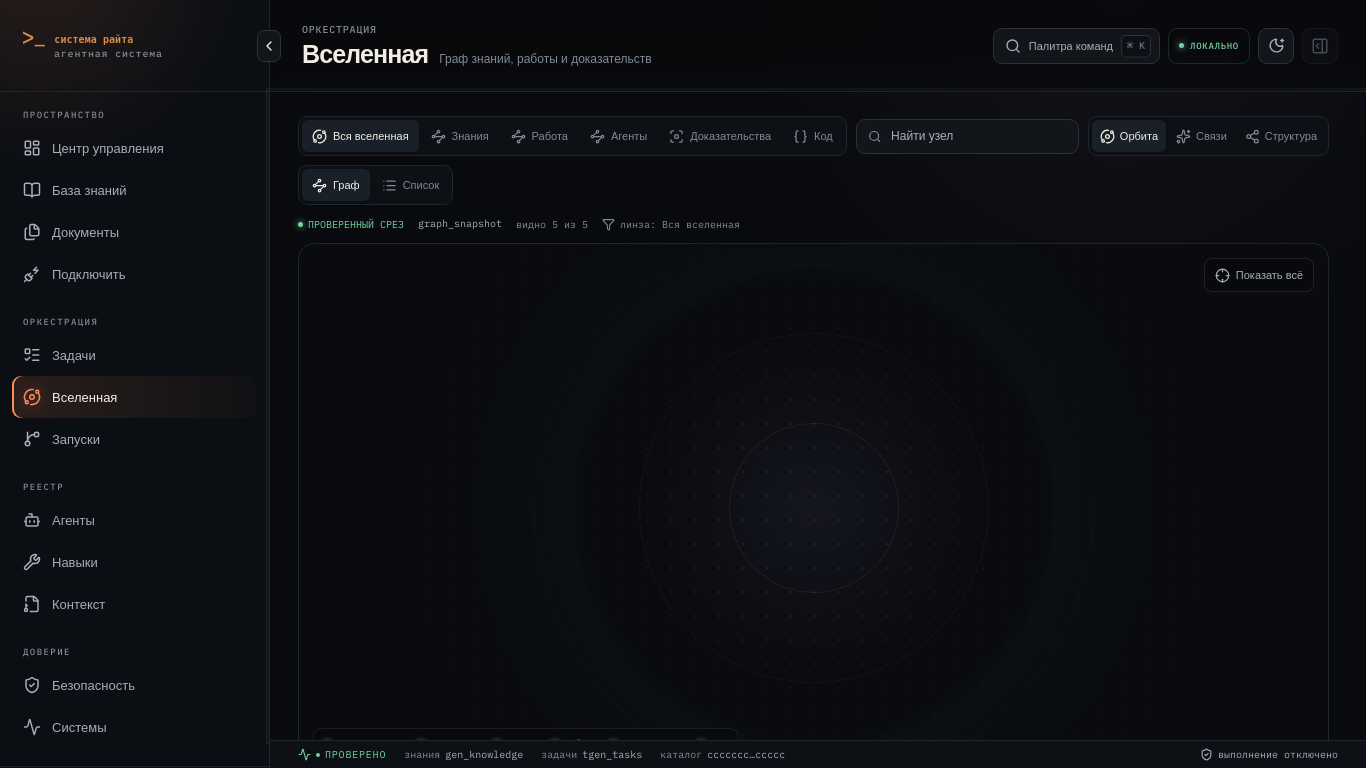
Test: raytsystem control plane › provides a Russian code lens with freshness, filters and table fallback
The width and height of the screenshot is (1366, 768).
What coordinates should you click on to do the following:
click the button "Код"
I would click on:
 (813, 136)
Its box is [783,120,843,152].
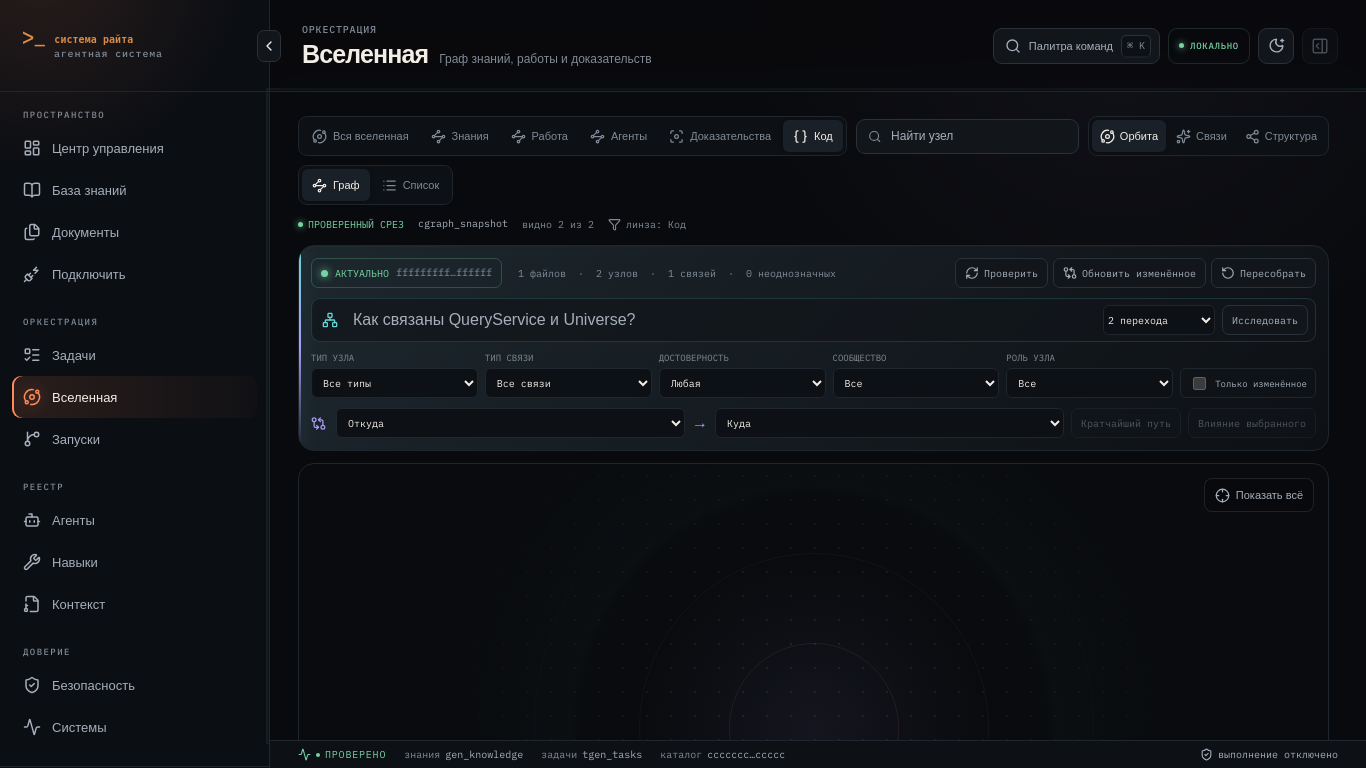
Now the text "Актуально" is shown, box [335,266,389,280]
Now the dropdown labelled "Тип узла" is shown, box [311,368,478,398]
Now the dropdown labelled "Тип связи" is shown, box [485,368,652,398]
What coordinates should you click on to do the following:
click the button "Список"
I would click on:
 (410, 185)
Its box is [372,169,449,201].
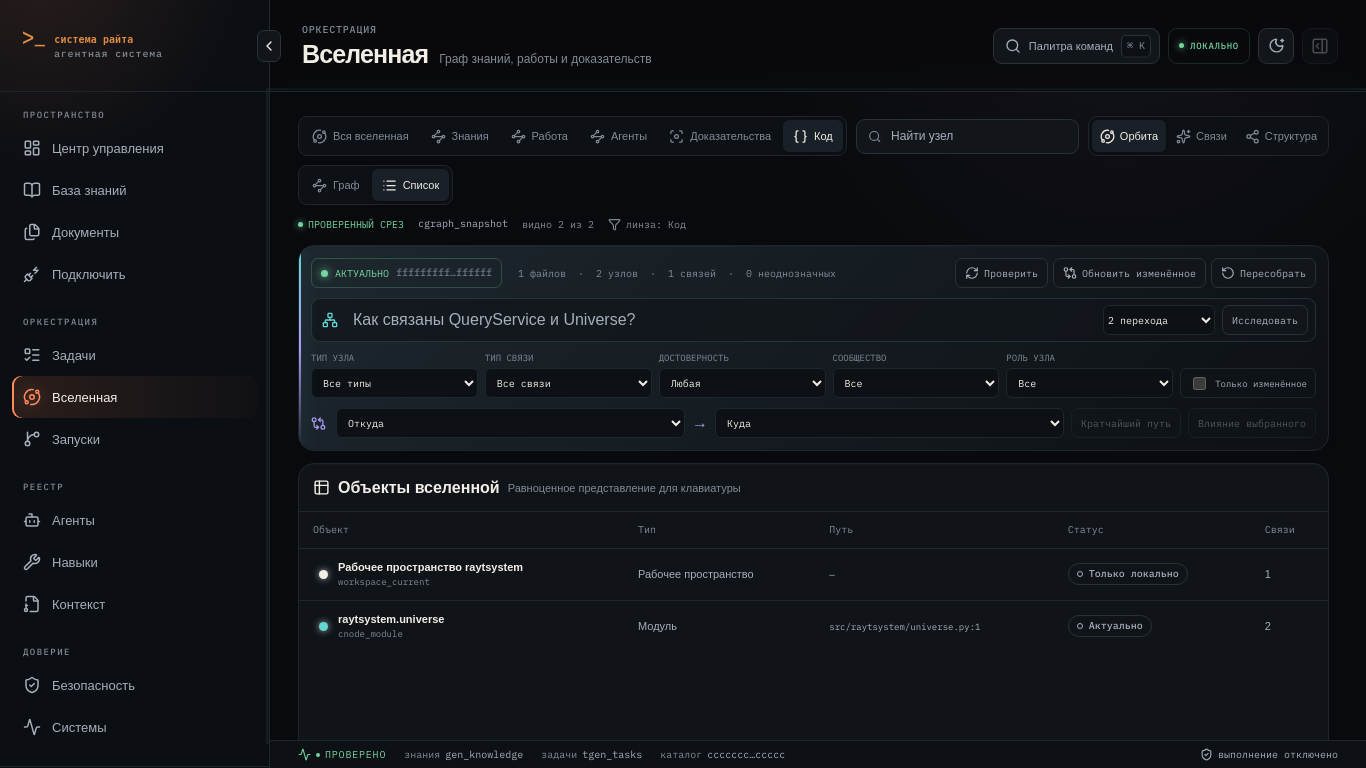
Now the table is shown, box [299,512,1328,652]
Now the text "raytsystem.universe" is shown, box [338,613,444,625]
